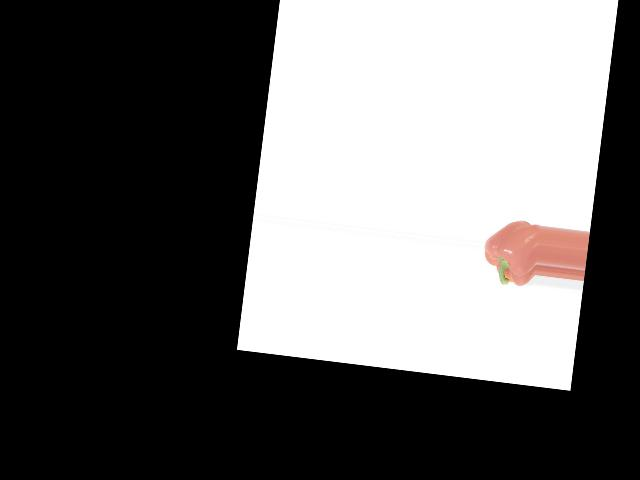bell_pepper: (478, 209, 542, 297)
